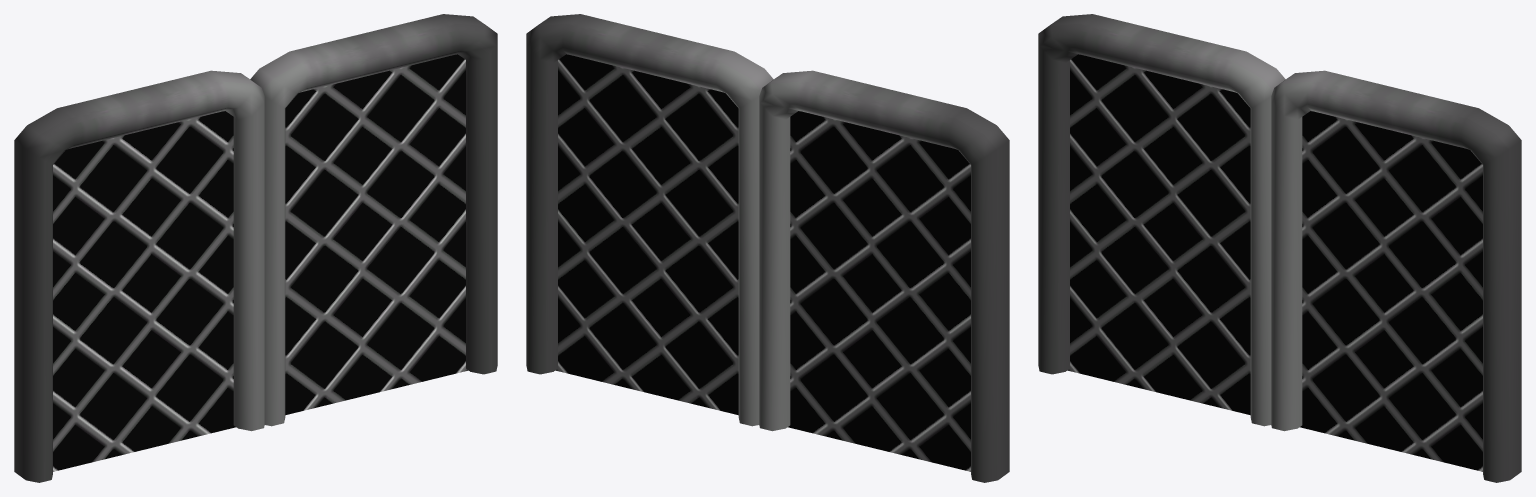
The model's file is TinGateHand.fbx.
The picture shows the model from 3 angles, left to right: view 1: azimuth 30°, elevation 25°; view 2: azimuth 150°, elevation 25°; view 3: azimuth 330°, elevation 25°; orthographic projection.
Parts seen in each view (by area): view 1: FencePost, FencePost (1); view 2: FencePost, FencePost (1); view 3: FencePost (1), FencePost.
Boxes of the visible parts, box(x1,y1,x2,y2) form: FencePost: box(14, 70, 264, 482); FencePost (1): box(250, 14, 497, 426); FencePost: box(759, 70, 1009, 482); FencePost (1): box(526, 14, 773, 426); FencePost (1): box(1271, 70, 1521, 482); FencePost: box(1038, 14, 1285, 426).
Size of the model in its own units: 1.25 by 0.9038 by 0.1094.
